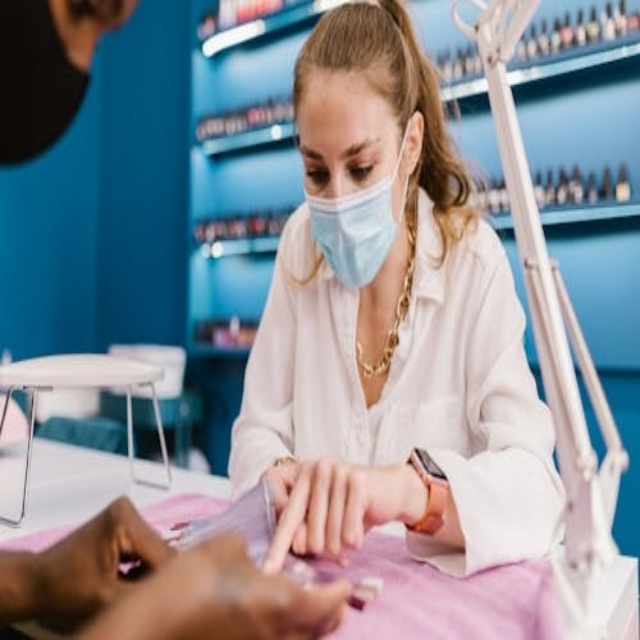Mascara: (307, 124, 408, 288), (1, 1, 95, 167)
Sin_gafas: (296, 121, 397, 188)
Sin_guantes: (1, 496, 174, 640), (182, 529, 360, 640), (264, 456, 417, 562)
